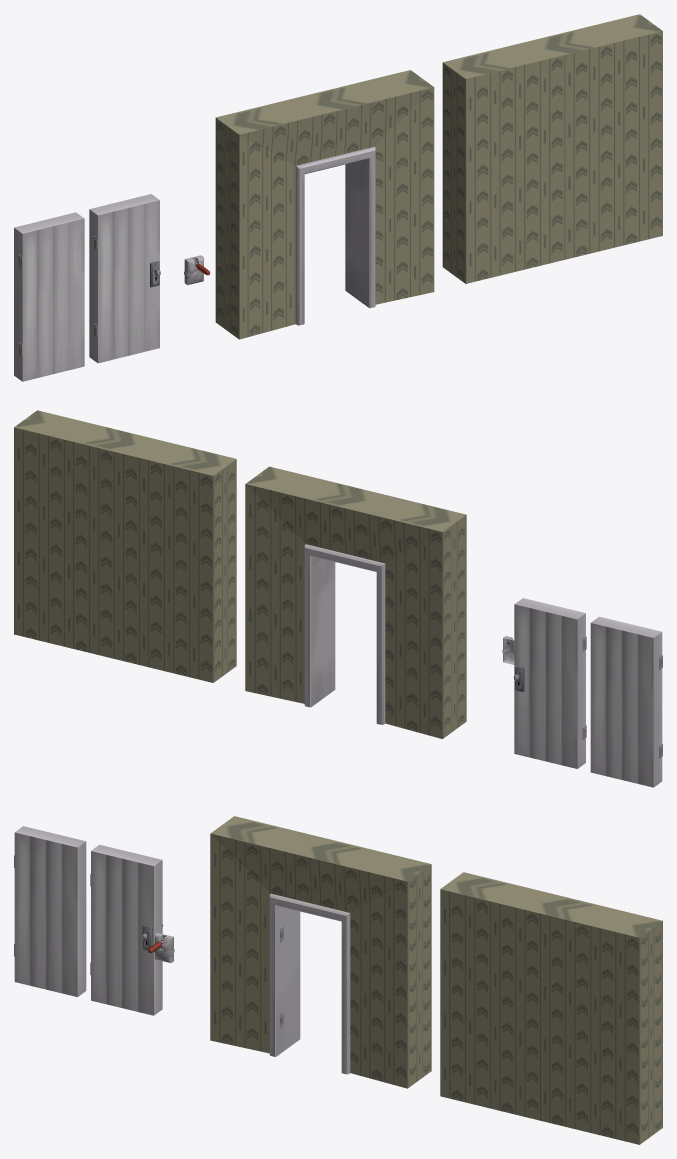
File: EscapeRoom.fbx
3 renders of one model, top to bottom at view 1: azimuth 30°, elevation 25°; view 2: azimuth 150°, elevation 25°; view 3: azimuth 330°, elevation 25°, orthographic.
Parts seen in each view (by area): view 1: Parede_Comum, Parede_Porta, Porta_Macaneta, Porta_Comum; view 2: Parede_Comum, Parede_Porta, Porta_Comum, Porta_Macaneta; view 3: Parede_Comum, Parede_Porta, Porta_Comum, Porta_Macaneta, Alavanca_Caixa.
Boxes of the visible parts, x1,y1,x2,y2 form: Parede_Comum: [442, 14, 662, 283]; Parede_Porta: [215, 70, 434, 339]; Porta_Macaneta: [89, 194, 160, 363]; Porta_Comum: [14, 212, 84, 381]; Parede_Comum: [14, 410, 236, 682]; Parede_Porta: [245, 466, 466, 738]; Porta_Comum: [590, 616, 662, 787]; Porta_Macaneta: [514, 598, 586, 768]; Parede_Comum: [440, 872, 662, 1144]; Parede_Porta: [210, 816, 431, 1088]; Porta_Comum: [14, 826, 86, 997]; Porta_Macaneta: [90, 844, 163, 1015]; Alavanca_Caixa: [154, 933, 174, 962].
Bounding box in the file's own units: 961 × 299 × 105.
